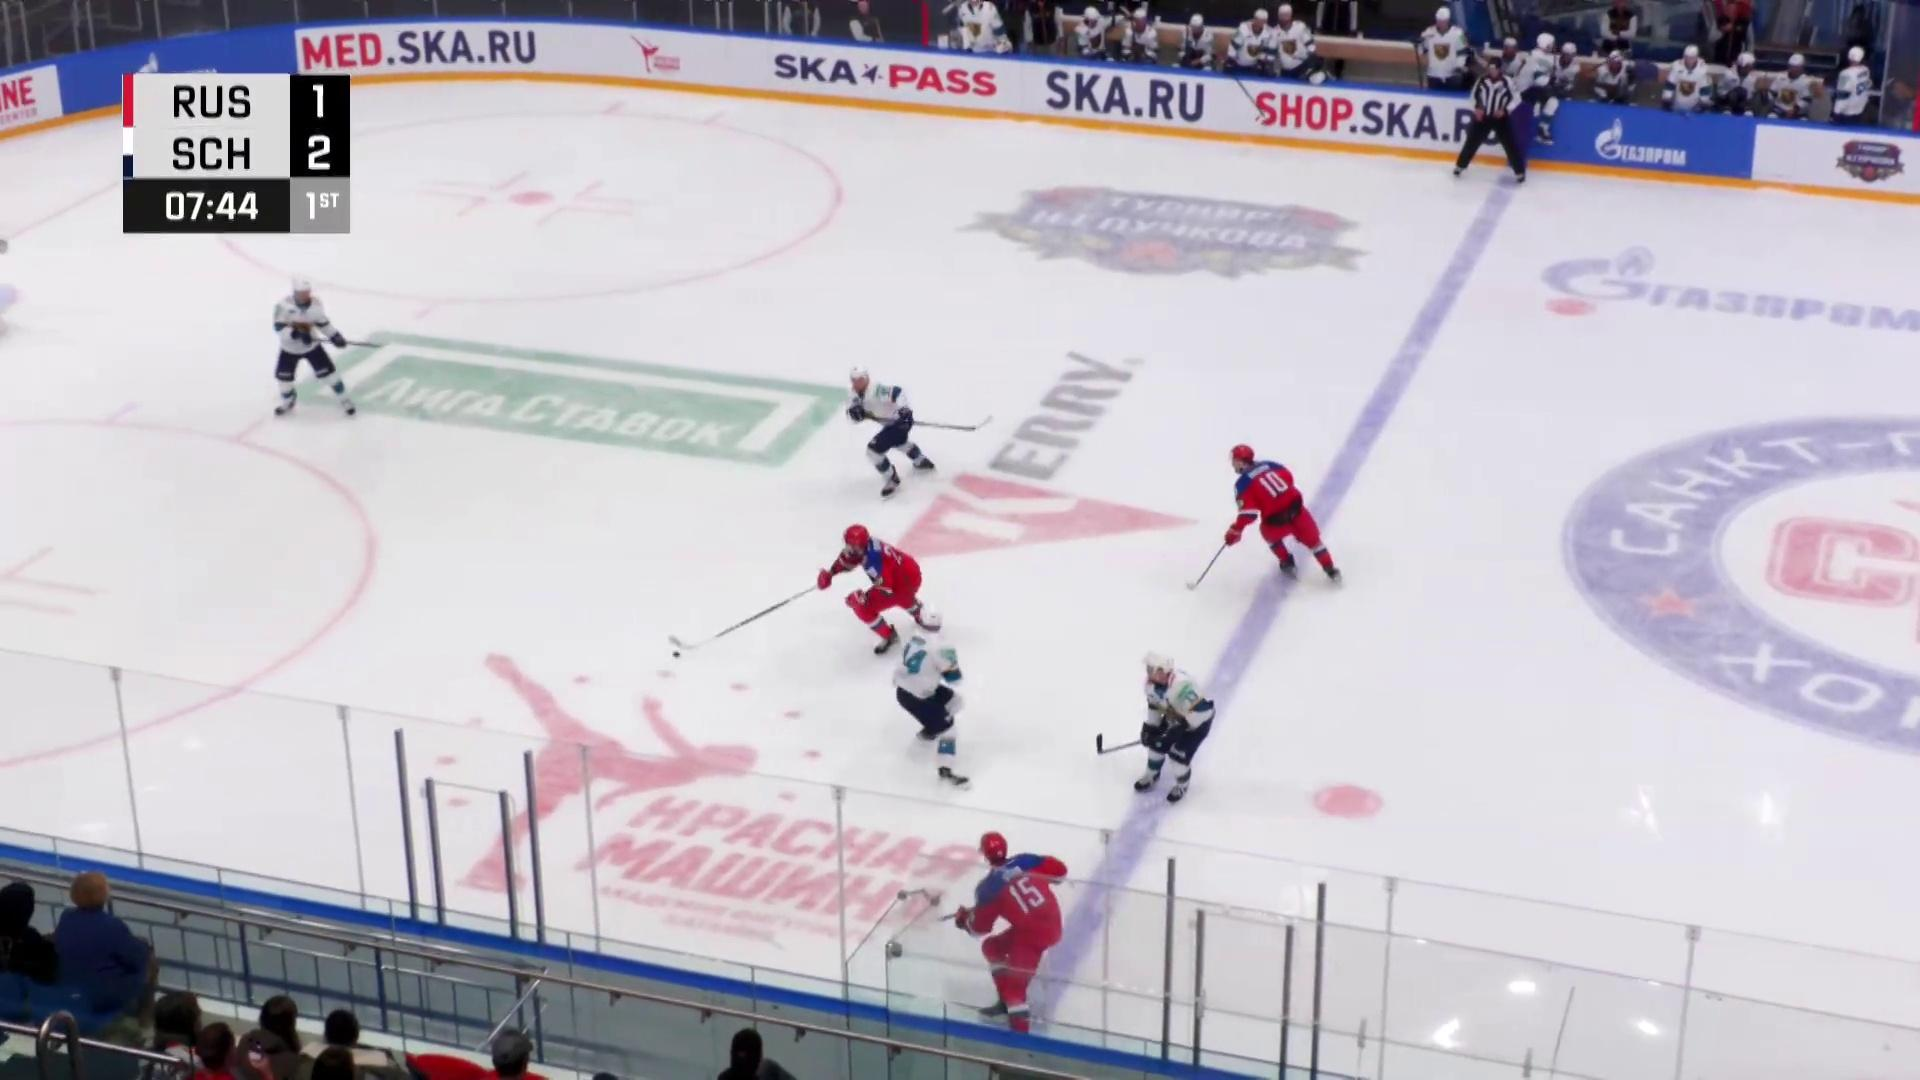ball: (673, 650, 682, 659)
